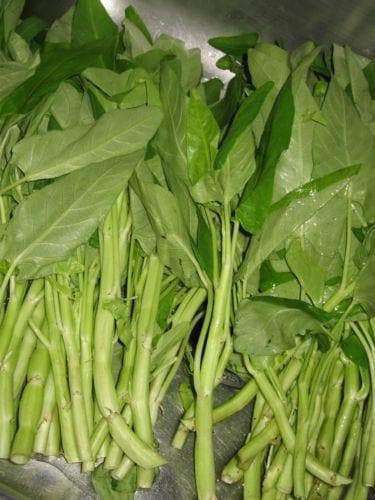Kangkung: (51, 72, 338, 451)
